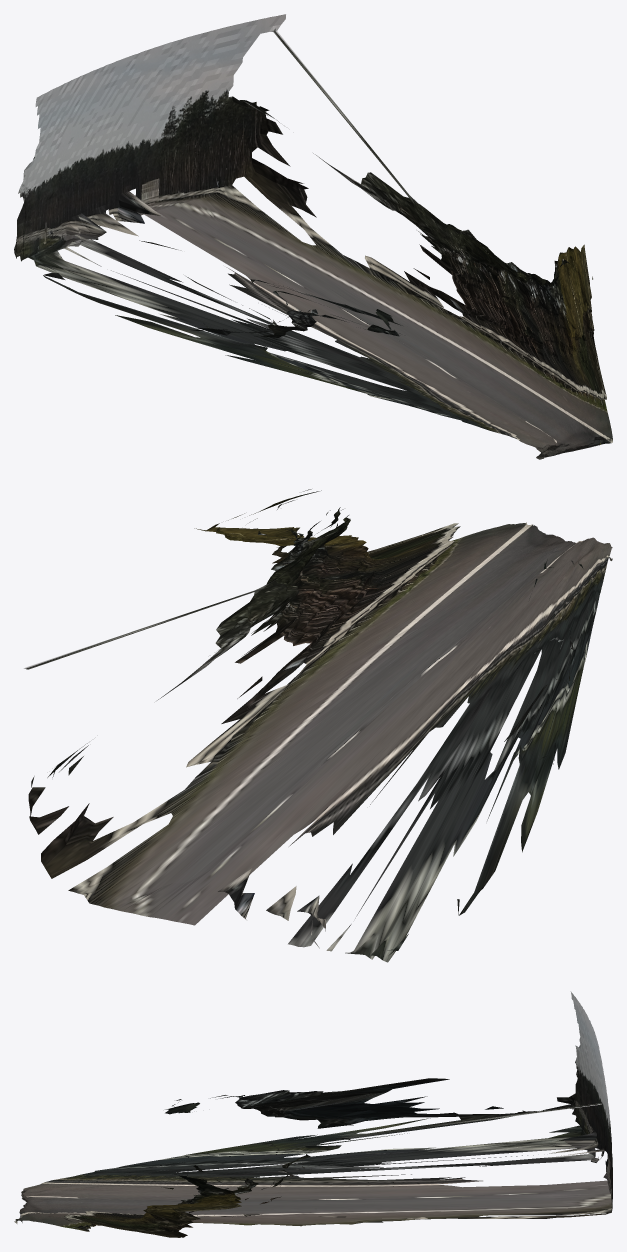
The picture shows the model from 3 angles, top to bottom: view 1: azimuth 30°, elevation 25°; view 2: azimuth 150°, elevation 25°; view 3: azimuth 270°, elevation 25°; orthographic projection. The views are drawn at different scales.
Parts seen in each view (by area): view 1: defaultobject; view 2: defaultobject; view 3: defaultobject.
Part boxes in pixels (x1,y1,x2,y2): defaultobject: [14, 14, 612, 459]; defaultobject: [23, 489, 612, 962]; defaultobject: [14, 991, 612, 1237].
Bounding box in the file's own units: 26.69 × 12.33 × 44.61.
1 material, 1 textured.
